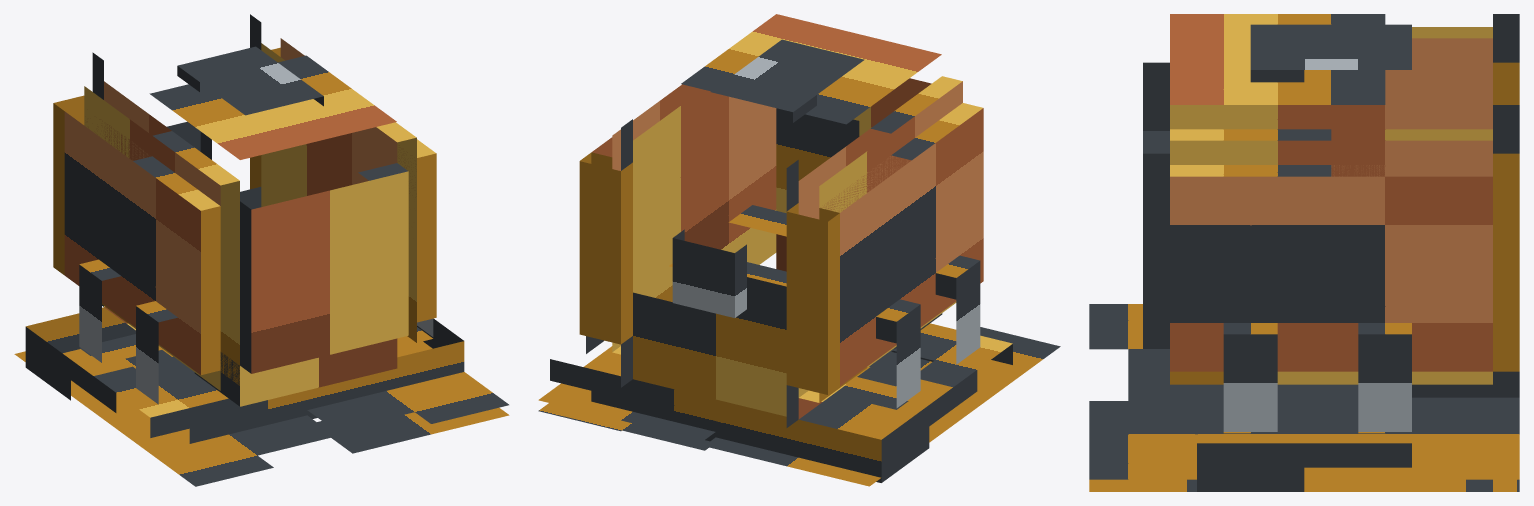
Rendered from advancedmotor.obj.
3 renders of one model, left to right at view 1: azimuth 30°, elevation 25°; view 2: azimuth 150°, elevation 25°; view 3: azimuth 270°, elevation 25°, orthographic. The views are drawn at different scales.
Parts seen in each view (by area): view 1: Motor, RecessedBacking; view 2: Motor, RecessedBacking; view 3: Motor, RecessedBacking.
Boxes of the visible parts, x1,y1,x2,y2 form: Motor: (25, 14, 509, 453); RecessedBacking: (14, 341, 508, 486); Motor: (538, 14, 1012, 482); RecessedBacking: (538, 327, 1060, 486); Motor: (1089, 14, 1519, 491); RecessedBacking: (1089, 304, 1519, 479).
Bounding box in the file's own units: 1 × 0.9062 × 1.
